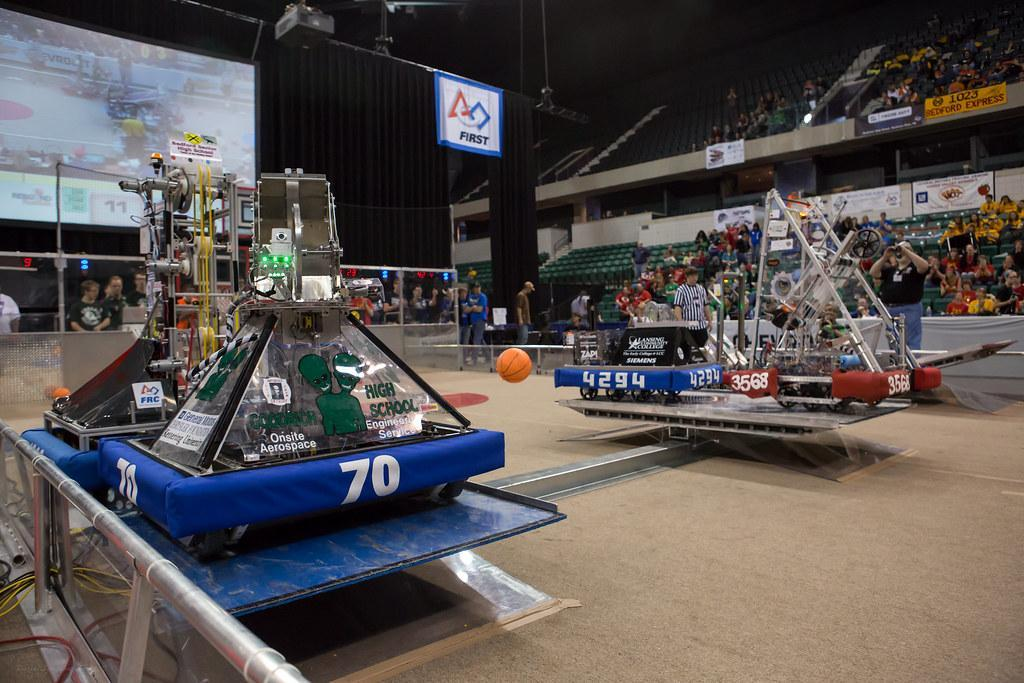robot: (103, 173, 512, 560), (20, 160, 284, 492), (722, 186, 952, 417), (549, 298, 734, 404)
